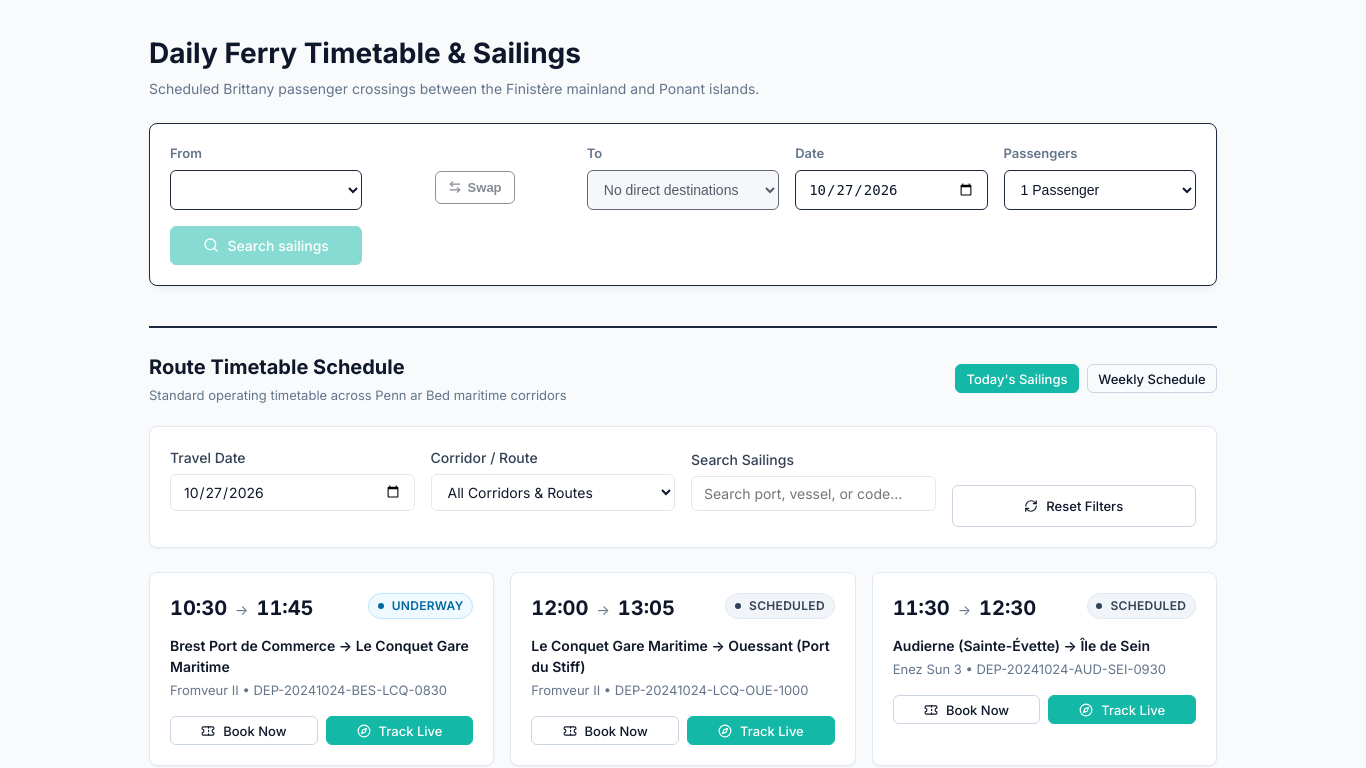
TimetablePage Component › filters departures when search query is entered
Type "Audierne" into the field labelled "Search Sailings" at (813, 493), box top-left (691, 476), bottom-right (936, 510)
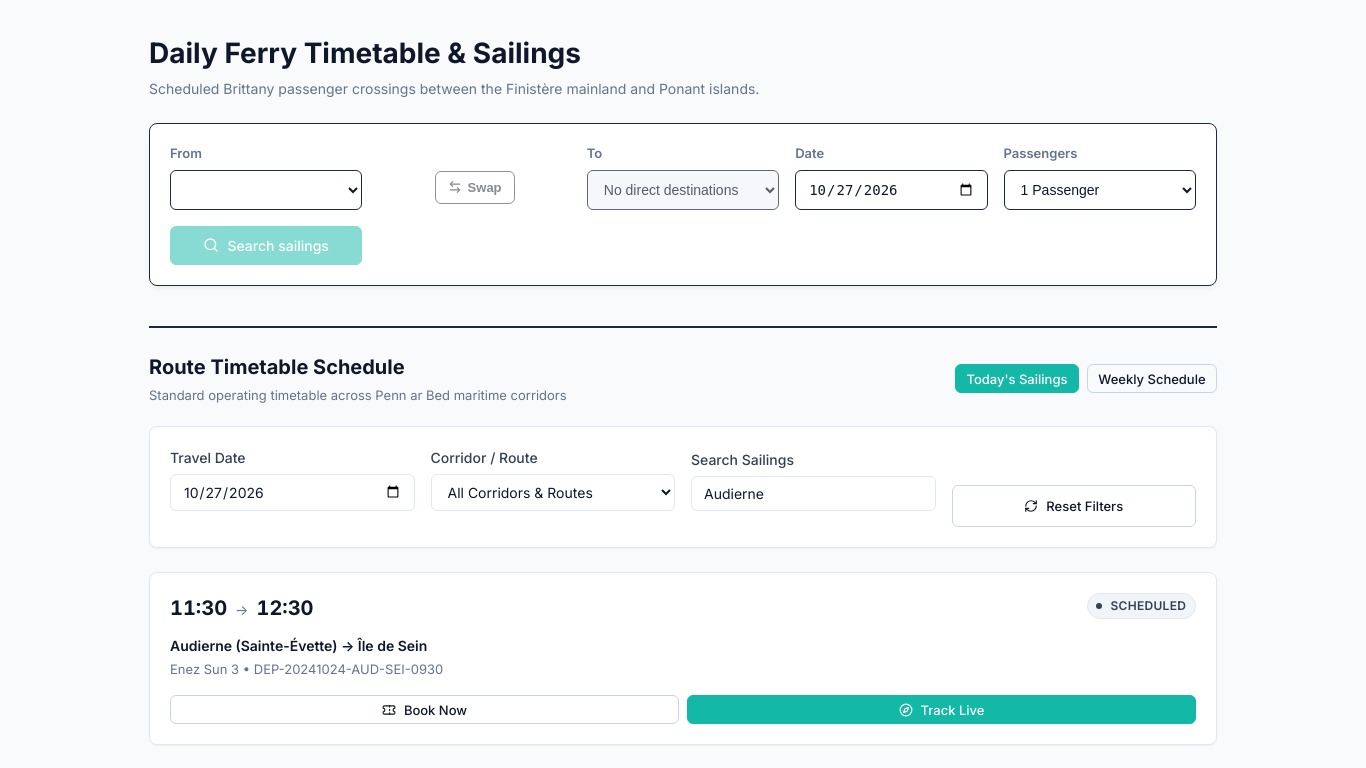
Expected: the text "Audierne (Sainte-Évette) → Île de Sein" is shown, top-left (170, 636), bottom-right (427, 654)
Now the text "Brest Port de Commerce → Le Conquet" is gone
